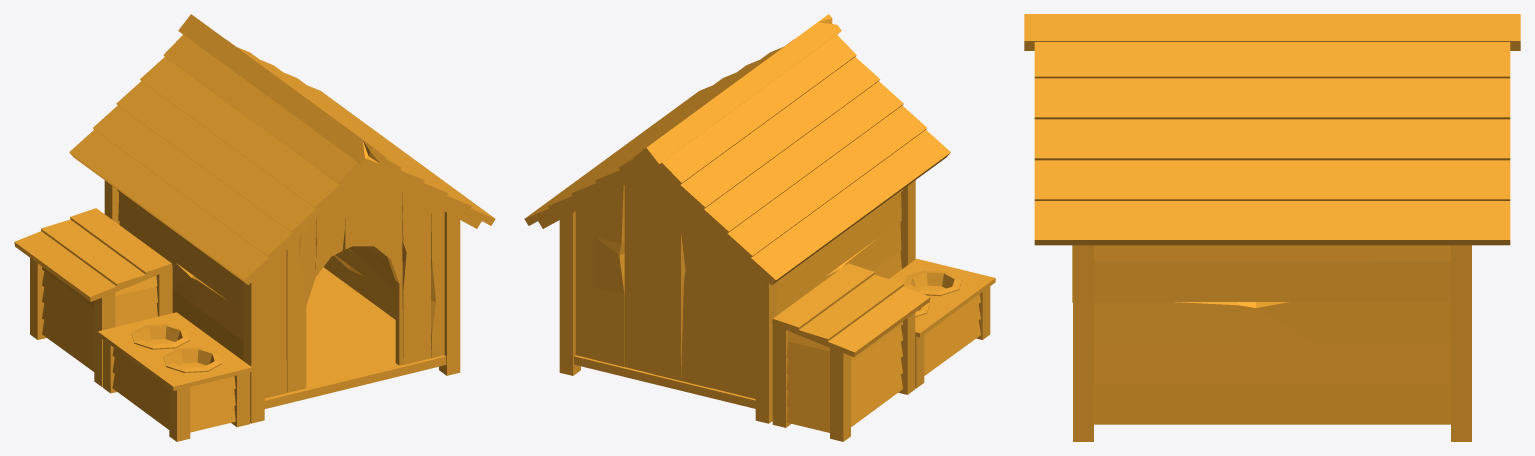
Rendered from SM_Dog_House_C.fbx.
3 renders of one model, left to right at view 1: azimuth 30°, elevation 25°; view 2: azimuth 150°, elevation 25°; view 3: azimuth 270°, elevation 25°, orthographic. The views are drawn at different scales.
Parts seen in each view (by area): view 1: dog-house-c-base, dog-house-c-lid, dog-house-c-bowl-a, dog-house-c-bowl-b; view 2: dog-house-c-base, dog-house-c-lid, dog-house-c-bowl-b; view 3: dog-house-c-base.
Part boxes in pixels (x1,y1,x2,y2): dog-house-c-base: (30,14,495,441); dog-house-c-lid: (14,208,172,301); dog-house-c-bowl-a: (131,323,189,349); dog-house-c-bowl-b: (163,347,221,372); dog-house-c-base: (524,14,995,441); dog-house-c-lid: (772,263,930,356); dog-house-c-bowl-b: (903,270,961,296); dog-house-c-base: (1024,14,1520,441).
Size of the model in its own units: 1.51 by 1.2 by 1.5.
